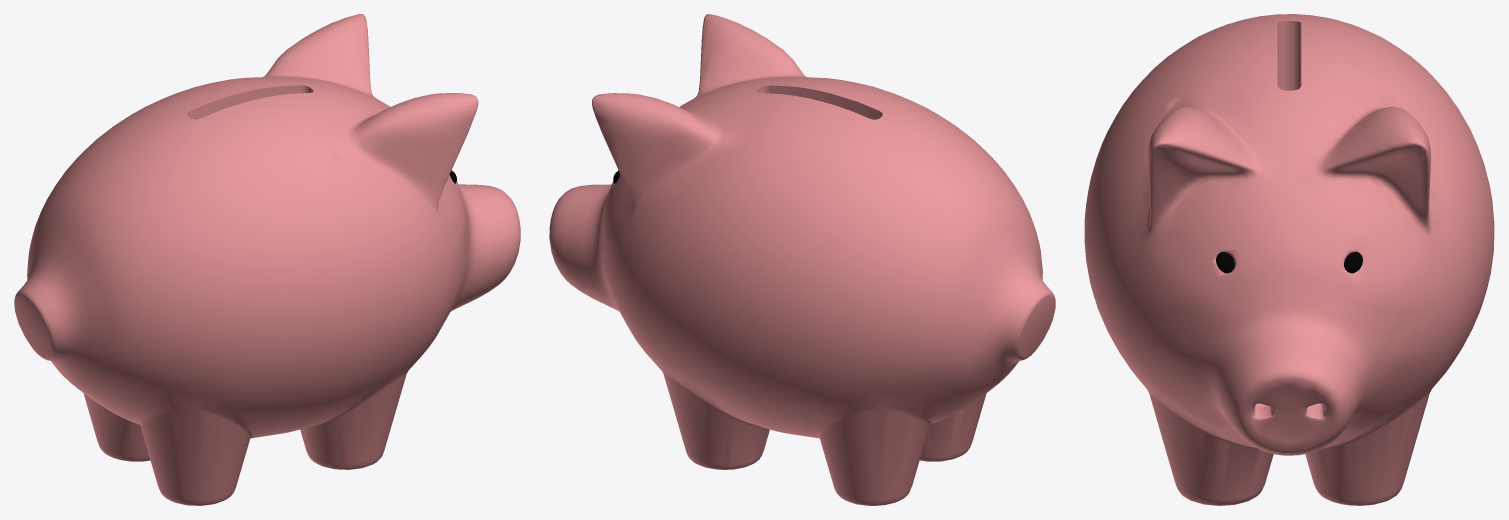
Rendered from bPig.fbx.
The picture shows the model from 3 angles, left to right: view 1: azimuth 30°, elevation 25°; view 2: azimuth 150°, elevation 25°; view 3: azimuth 270°, elevation 25°; orthographic projection. The views are drawn at different scales.
Parts seen in each view (by area): view 1: Pig_body; view 2: Pig_body; view 3: Pig_body, Sphere.
Part boxes in pixels (x1=…): Pig_body: x1=14, y1=14, x2=520, y2=505; Pig_body: x1=549, y1=14, x2=1055, y2=505; Pig_body: x1=1084, y1=14, x2=1494, y2=505; Sphere: x1=1216, y1=252, x2=1362, y2=273.
Size of the model in its own units: 352 by 547 by 387.
